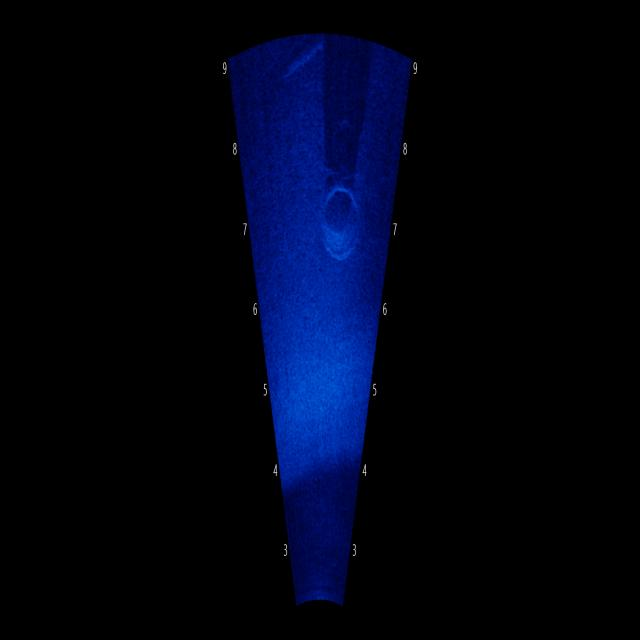circle: (306, 159, 369, 293)
